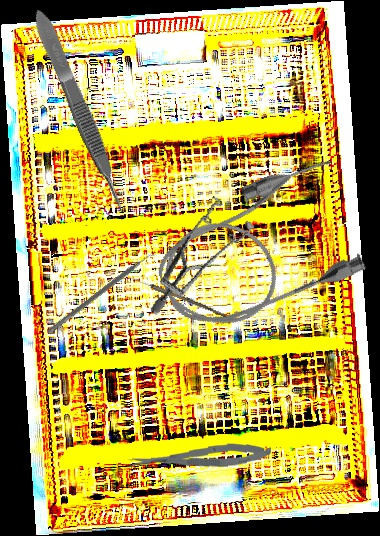Cannula: (140, 150, 377, 347)
Micro Scissor: (126, 441, 272, 472)
Spatula Surgical: (46, 248, 159, 339)
Speculum: (123, 187, 272, 316)
Surgical Spoon: (123, 273, 228, 318)
Tissue Forceps: (29, 5, 130, 216)
